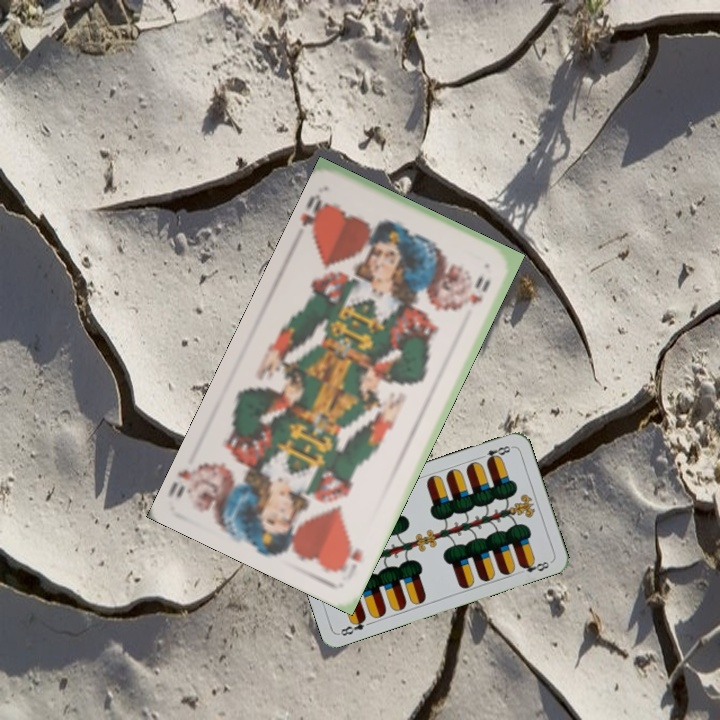E8: (475, 441, 515, 465), (336, 613, 369, 639)
HO: (297, 189, 332, 243), (333, 544, 366, 577)
